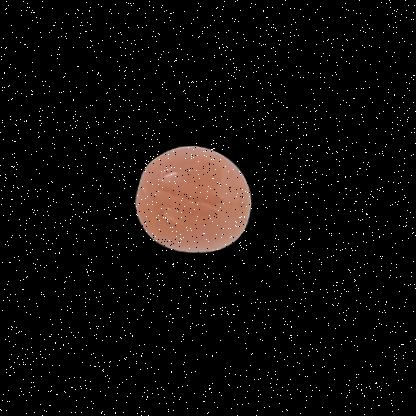opiqutan: (118, 118, 271, 287)
